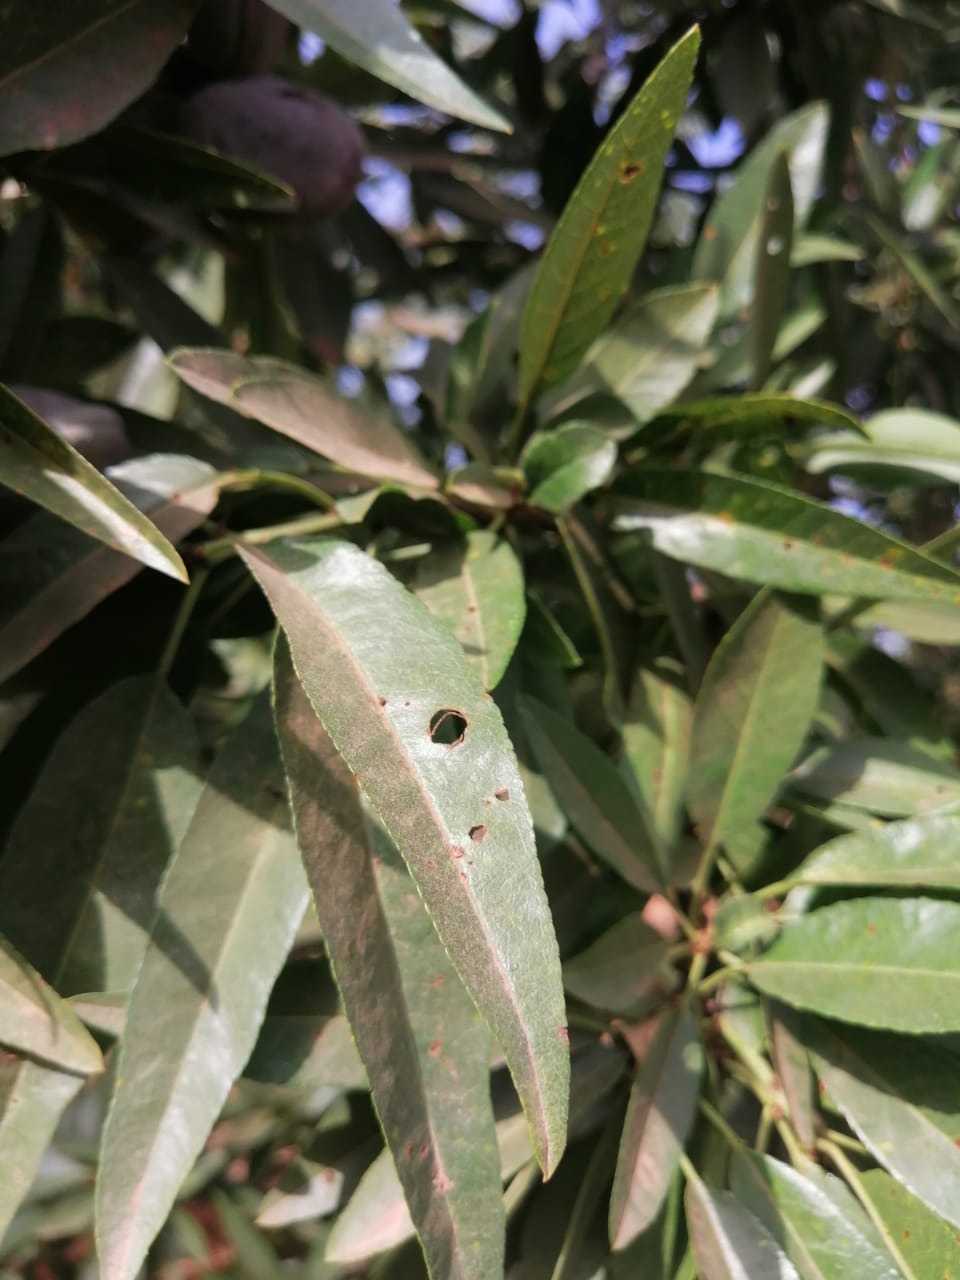coryneum: (236, 533, 568, 1184), (511, 17, 702, 419)
